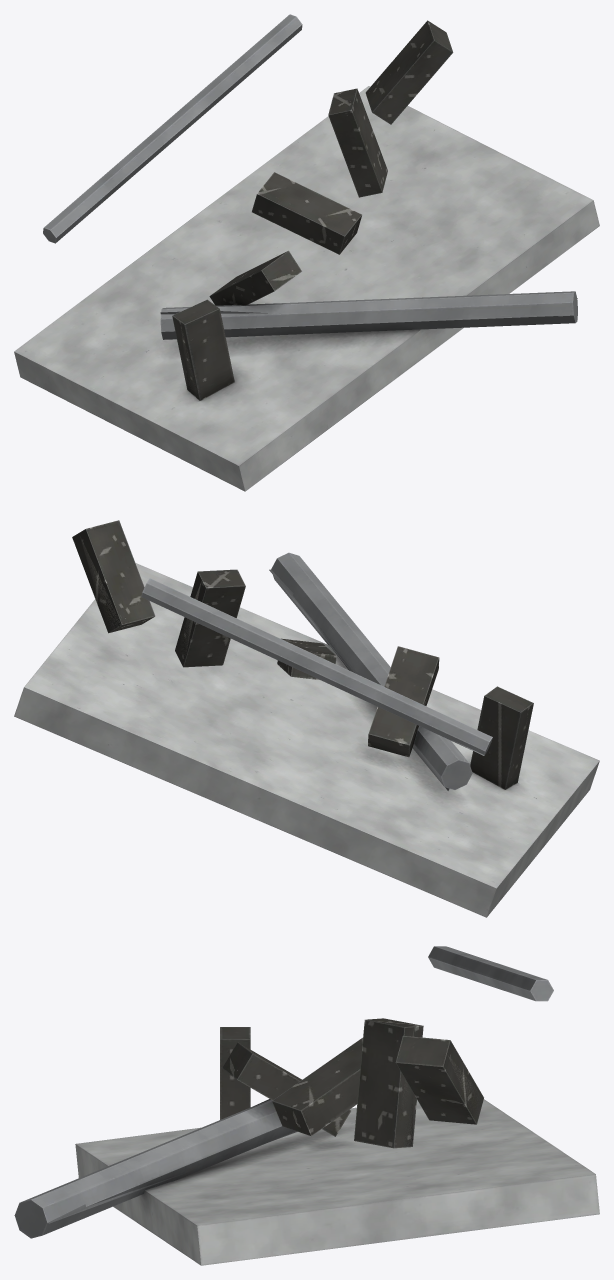
Rendered from sd_prop_debris0.glb.
The picture shows the model from 3 angles, top to bottom: view 1: azimuth 30°, elevation 25°; view 2: azimuth 150°, elevation 25°; view 3: azimuth 270°, elevation 25°; orthographic projection. The views are drawn at different scales.
Parts seen in each view (by area): view 1: LOD0_body; view 2: LOD0_body, LOD1_body; view 3: LOD0_body, LOD1_body.
Boxes of the visible parts, x1,y1,x2,y2 form: LOD0_body: (14,14,599,491); LOD0_body: (14,520,599,917); LOD1_body: (79,534,529,790); LOD0_body: (14,946,599,1265); LOD1_body: (48,1027,483,1223).
Bounding box in the file's own units: 1 × 0.566 × 0.8684.
Materials: 1 (1 with a texture image).
